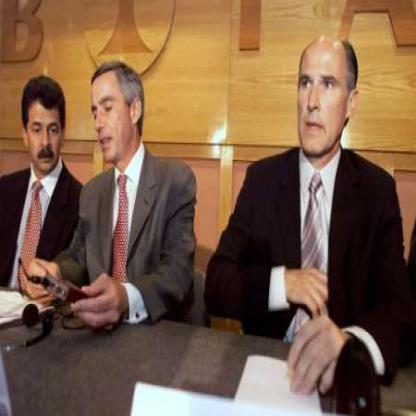face: (294, 37, 350, 161), (90, 69, 135, 168), (29, 86, 65, 173)
